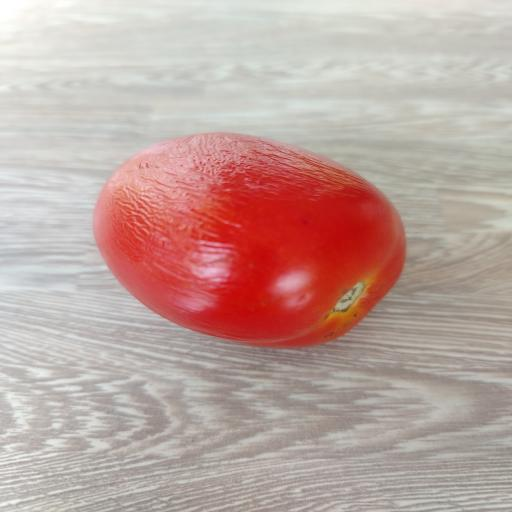spoiled: (94, 133, 405, 347)
